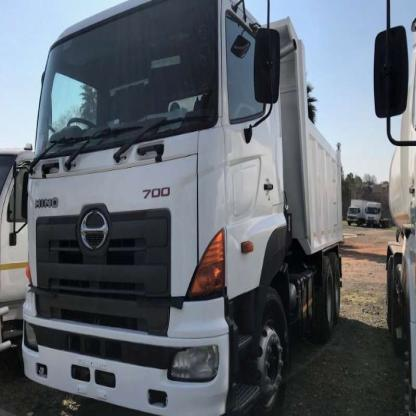dump_truck: (11, 4, 356, 415)
